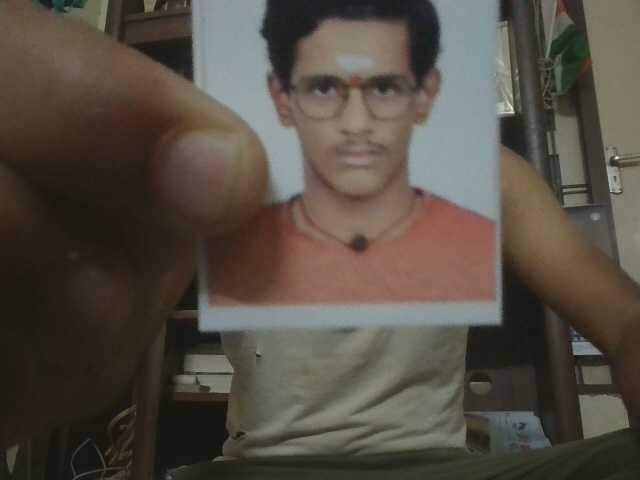fake: (267, 24, 442, 199)
